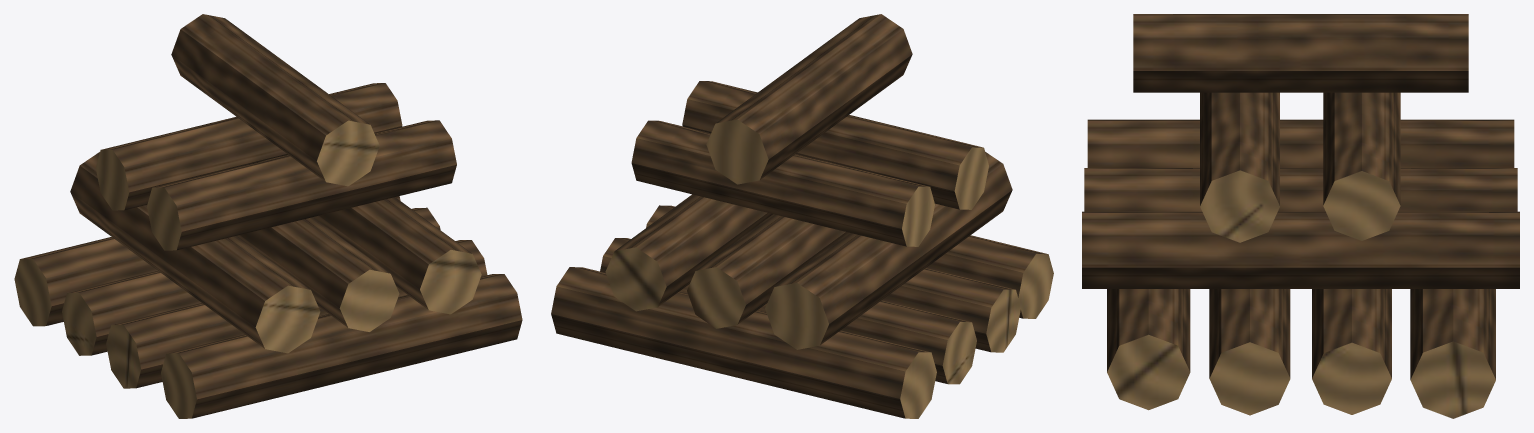
File: prop_houtstapel.glb
3 renders of one model, left to right at view 1: azimuth 30°, elevation 25°; view 2: azimuth 150°, elevation 25°; view 3: azimuth 270°, elevation 25°, orthographic. The views are drawn at different scales.
Visible parts, largest first — view 1: prop_houtstapel; view 2: prop_houtstapel; view 3: prop_houtstapel.
Boxes of the visible parts, x1,y1,x2,y2 form: prop_houtstapel: (14,14,522,418); prop_houtstapel: (551,14,1053,418); prop_houtstapel: (1082,14,1519,418).
Bounding box in the file's own units: 0.6158 × 0.4413 × 0.5748.
1 material, 1 textured.
